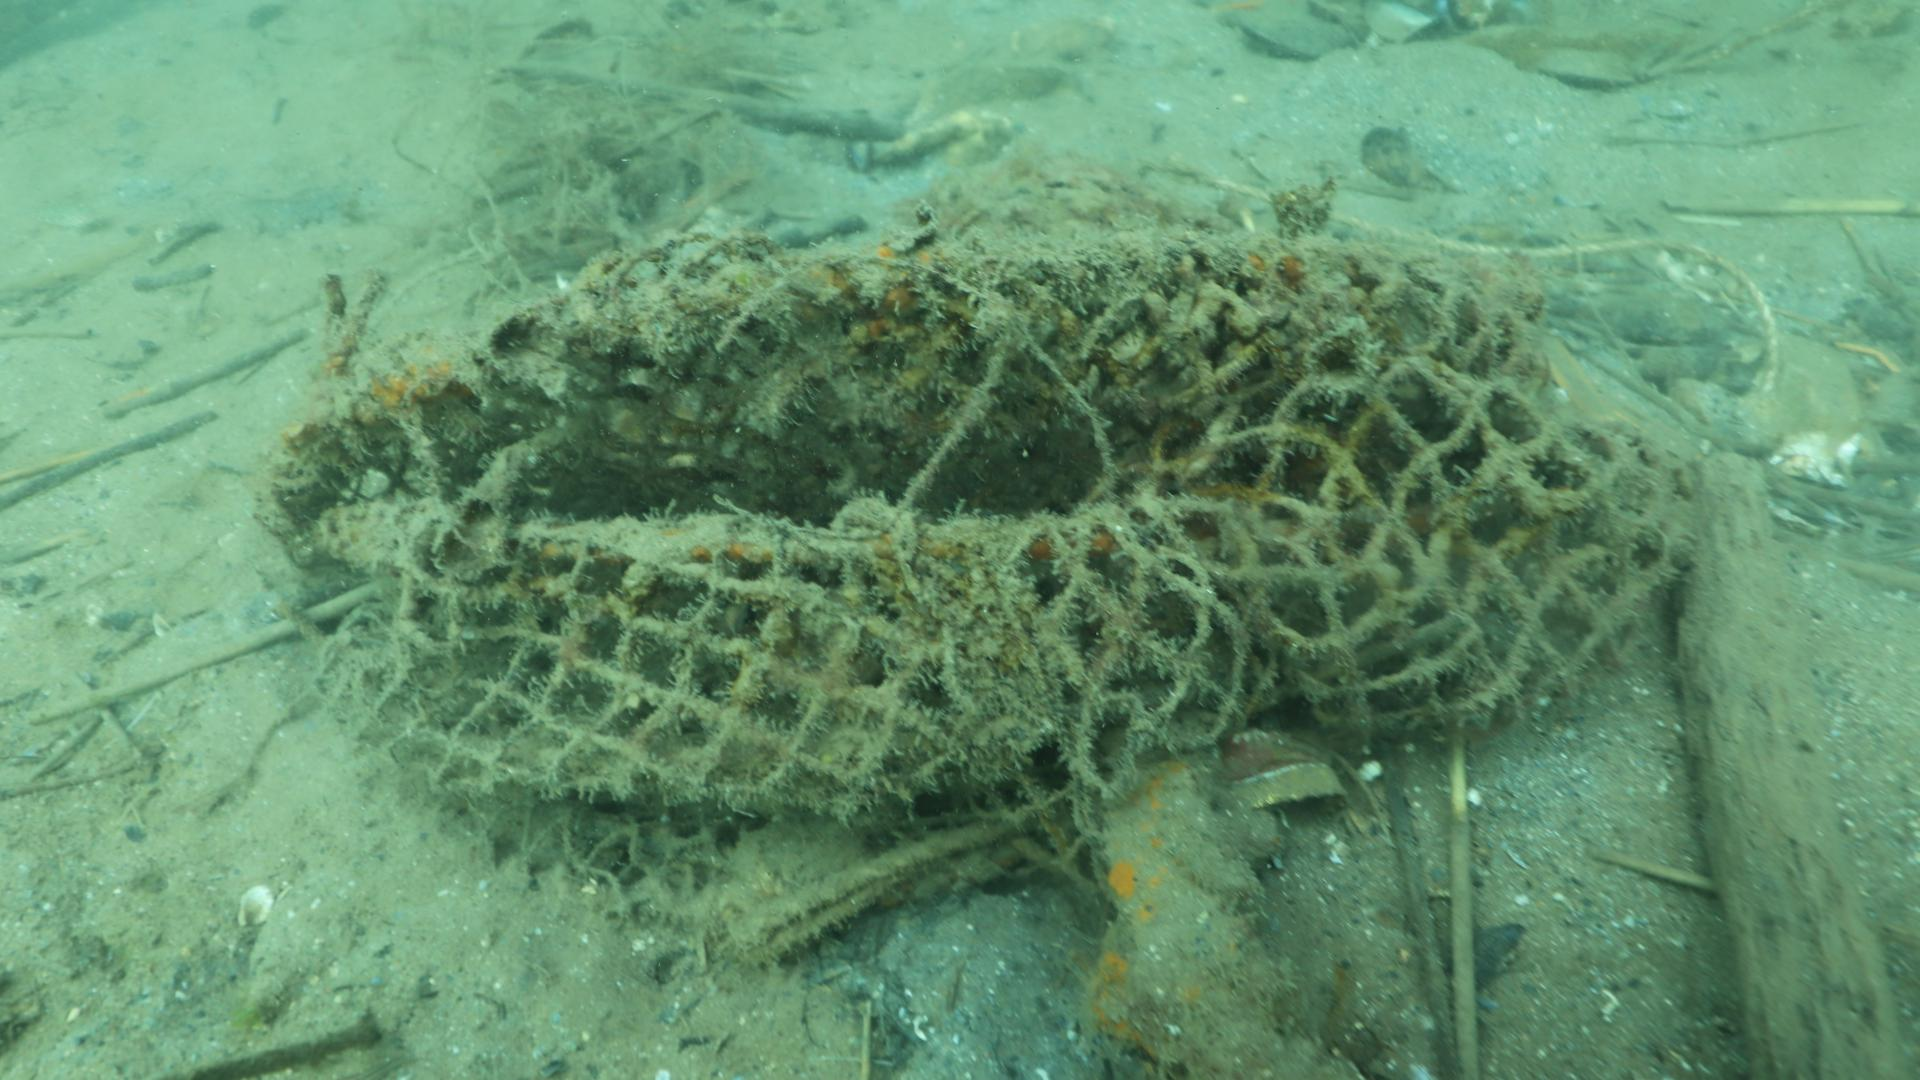fish net: (249, 229, 1700, 819)
wood: (1672, 443, 1908, 1080)
